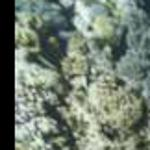alive: (20, 2, 146, 148)
